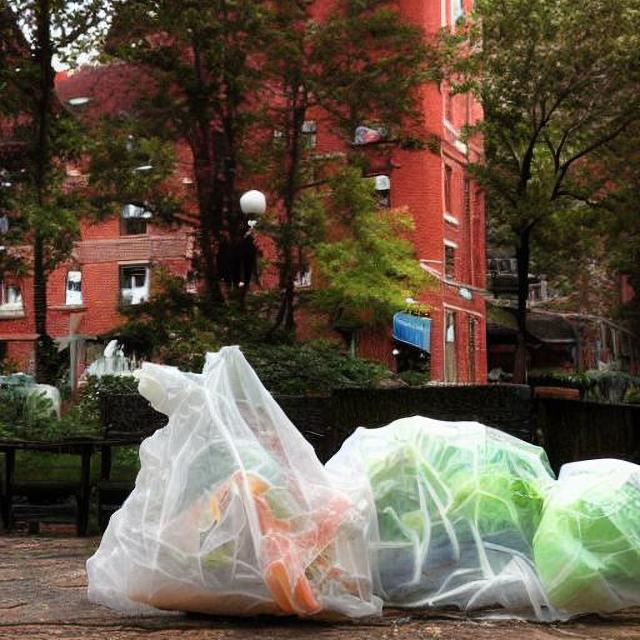plastic bag: (78, 348, 639, 622)
